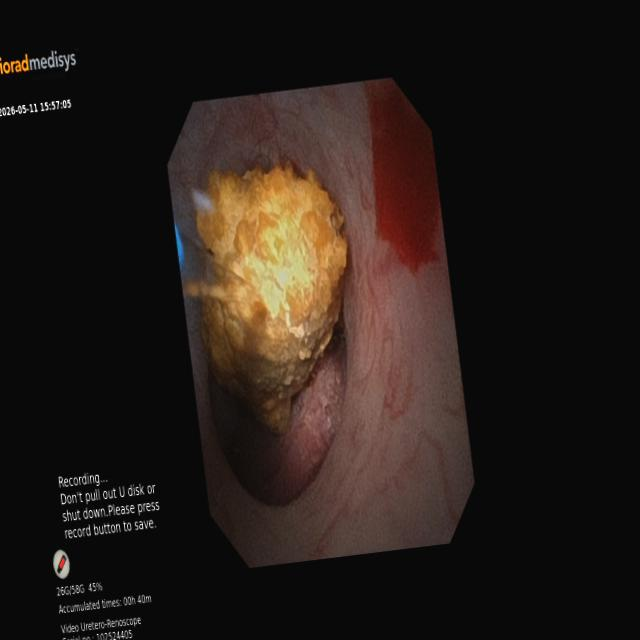laser-fibre: (183, 238, 239, 299)
laser_dot: (259, 279, 281, 316)
stone-new: (184, 163, 347, 433)
